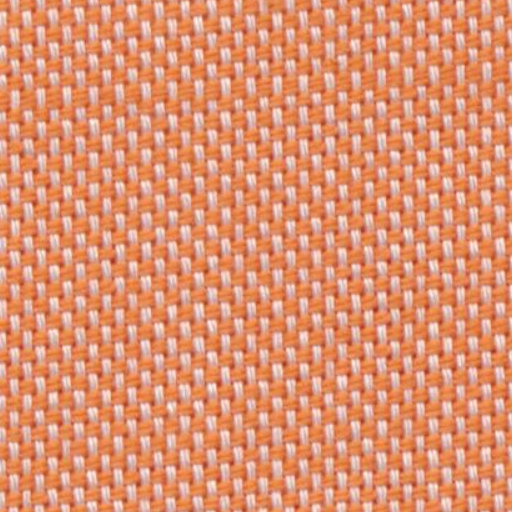TuoSha: (16, 54, 496, 110)
